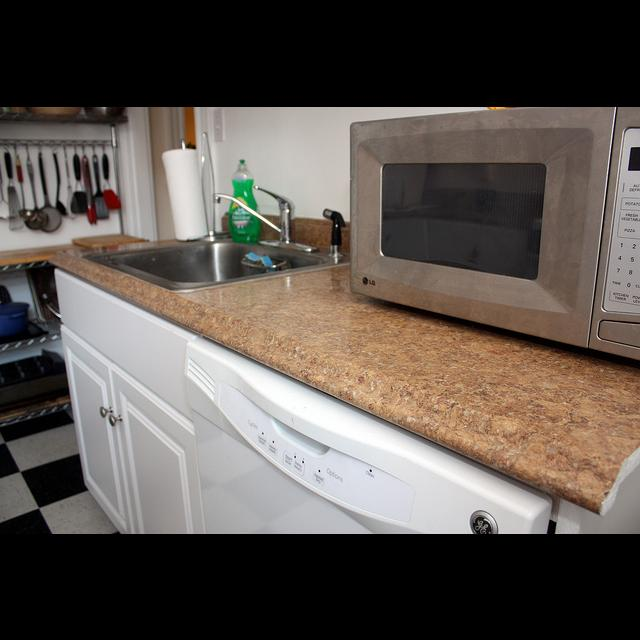Microwave: (350, 108, 640, 360)
